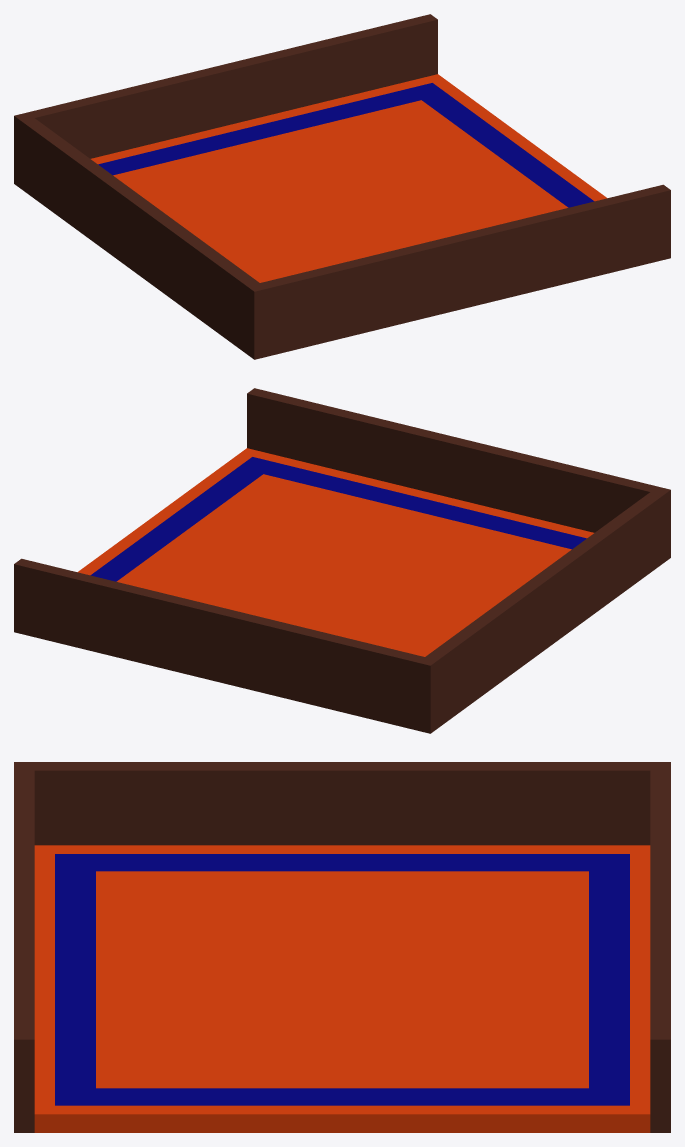
File: Blocker Bone Map 1-0.obj
The picture shows the model from 3 angles, top to bottom: view 1: azimuth 30°, elevation 25°; view 2: azimuth 150°, elevation 25°; view 3: azimuth 270°, elevation 25°; orthographic projection. The views are drawn at different scales.
Size of the model in its own units: 3.2 by 0.5 by 3.2.
1 material, 1 textured.
